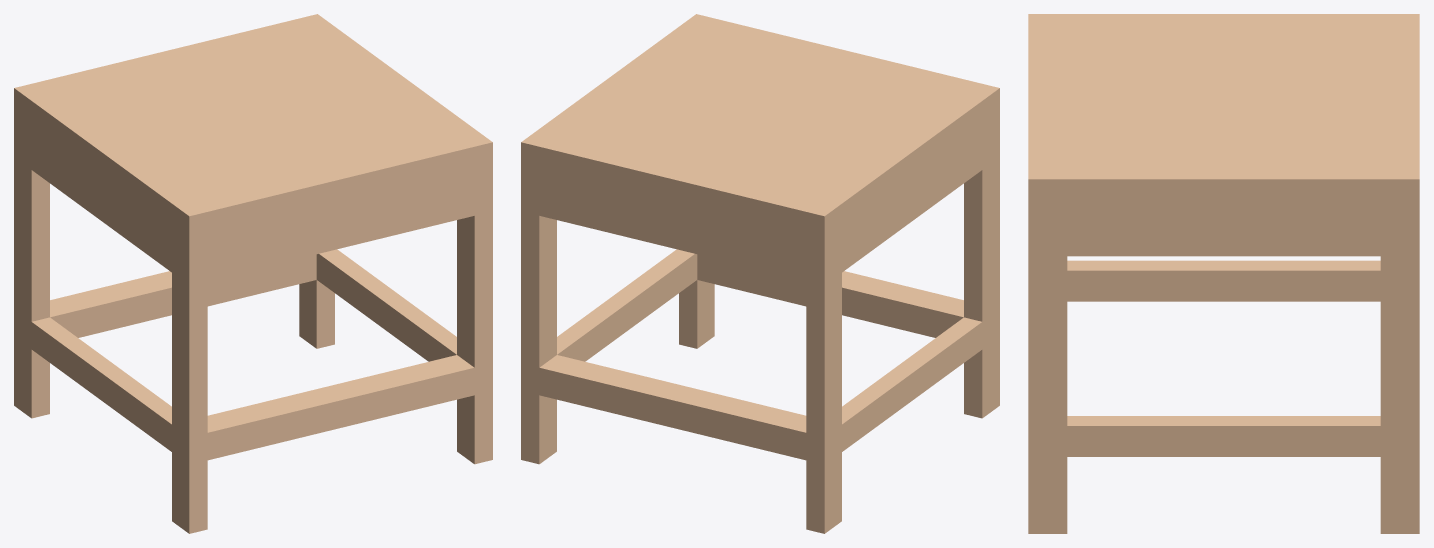
Rendered from kn-table-coffee.glb.
3 views of the same model, side by side, from view 1: azimuth 30°, elevation 25°; view 2: azimuth 150°, elevation 25°; view 3: azimuth 270°, elevation 25° (orthographic). The views are drawn at different scales.
Parts seen in each view (by area): view 1: tableCoffee(Clone); view 2: tableCoffee(Clone); view 3: tableCoffee(Clone).
Boxes of the visible parts, box(x1,y1,x2,y2) form: tableCoffee(Clone): box(14, 14, 492, 533); tableCoffee(Clone): box(521, 14, 999, 533); tableCoffee(Clone): box(1028, 14, 1419, 533).
Size of the model in its own units: 1 by 1 by 1.
